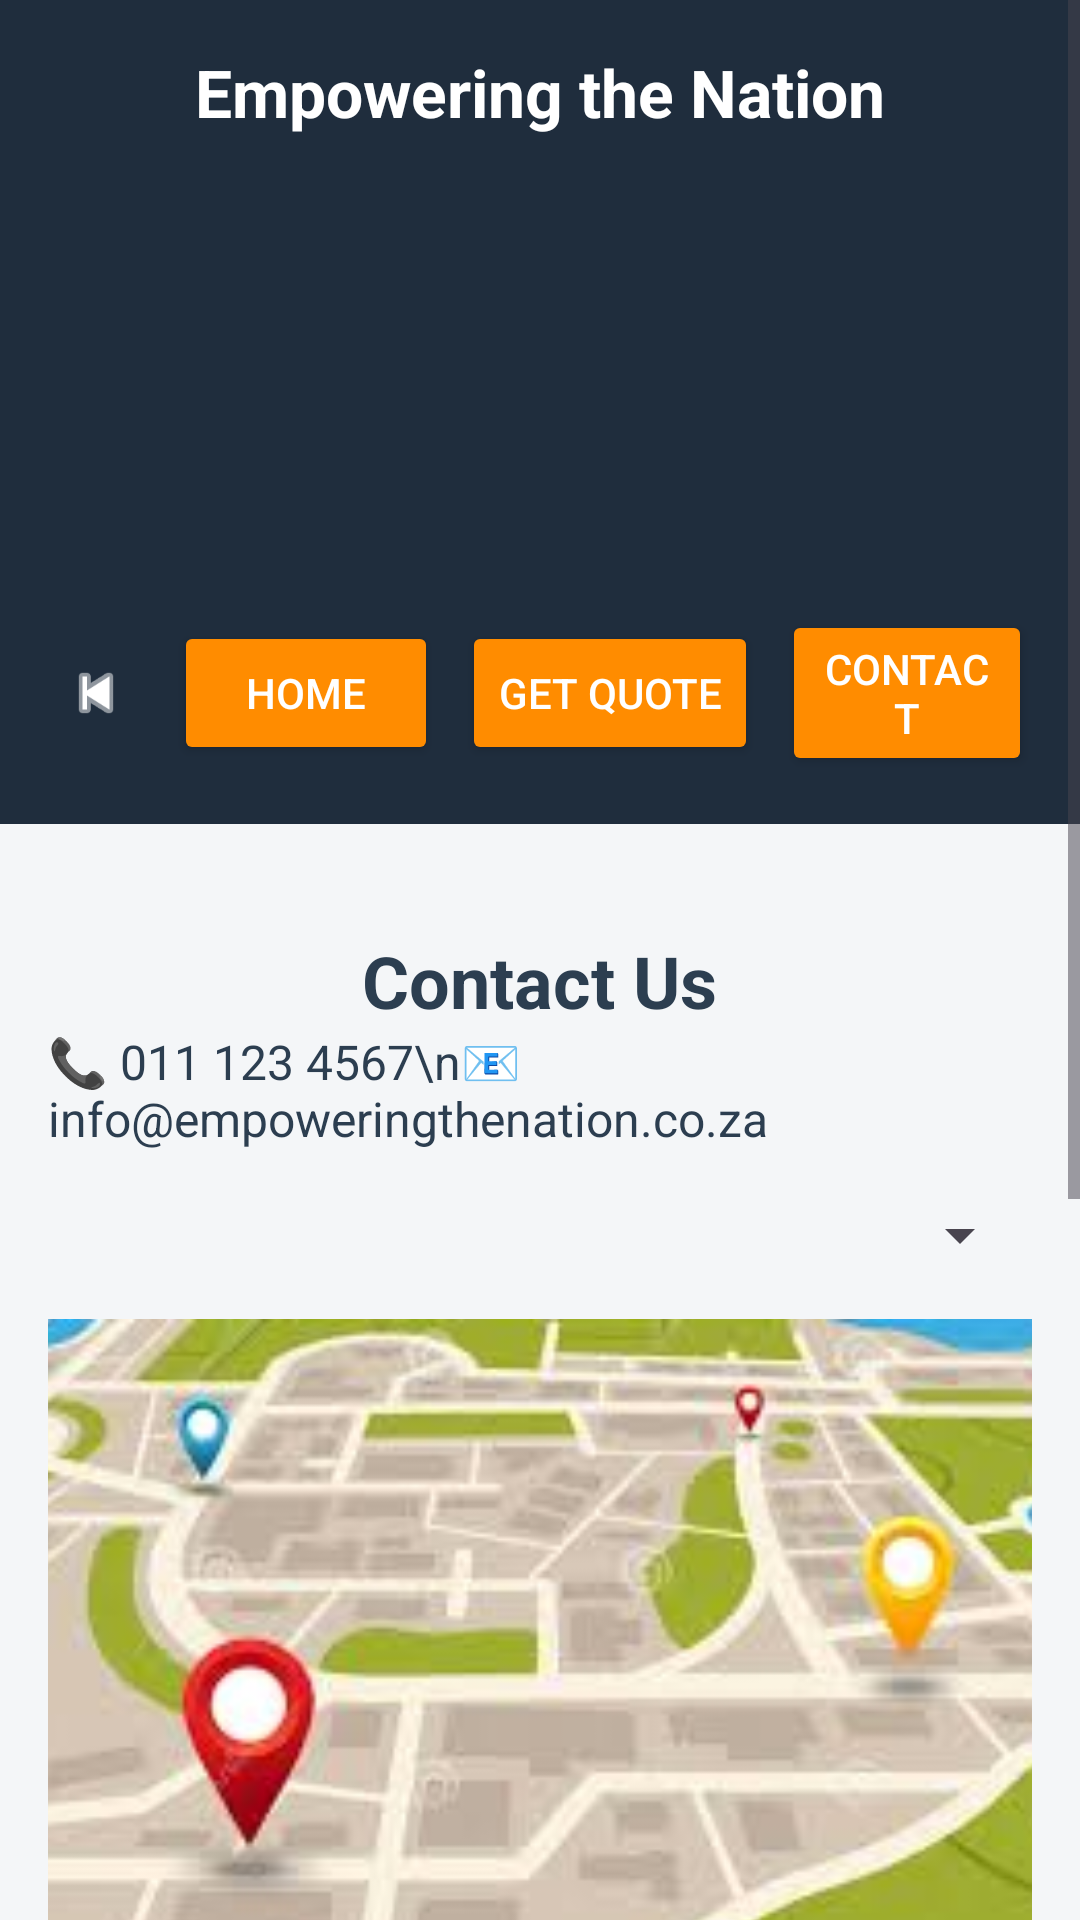

Where to tap for icons on this 1080×1920 app screen, as [x,y]:
Back: [96,693]
